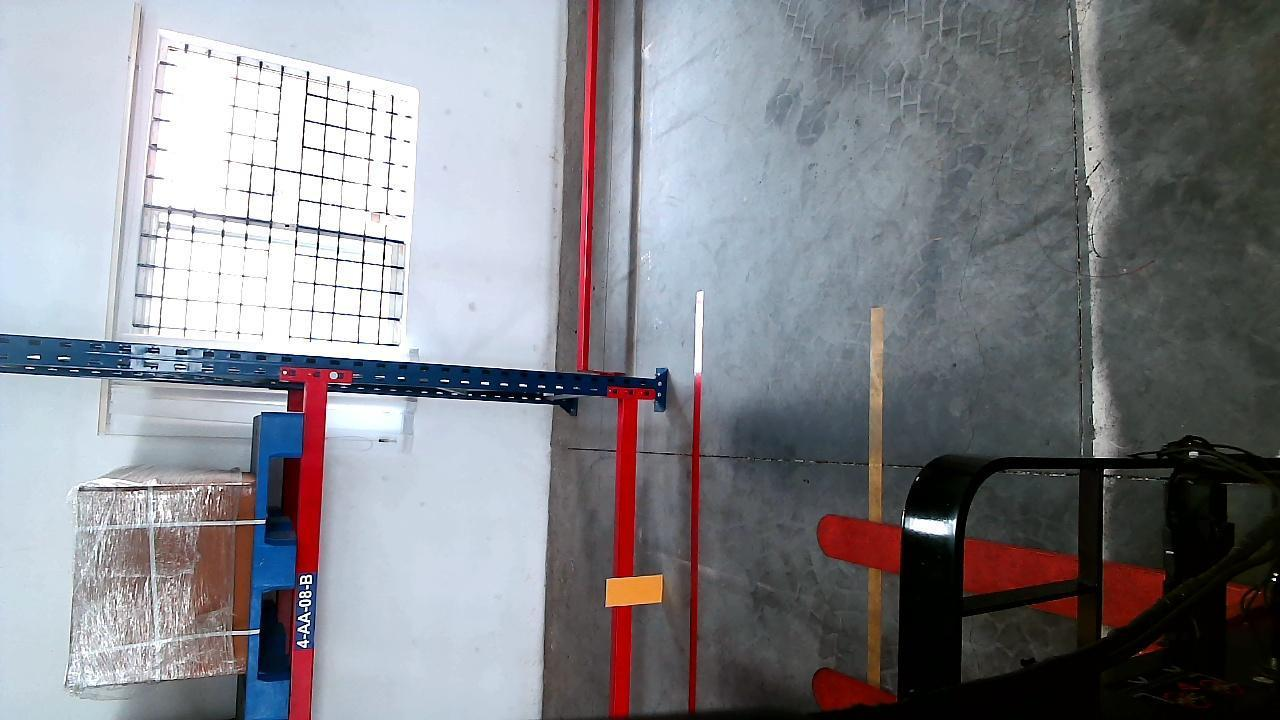h_rack: (289, 383, 327, 720), (614, 388, 642, 708)
orange_strip: (608, 574, 662, 605)
red_line: (683, 301, 706, 707)
small_pallet: (243, 412, 299, 720)
yellow_line: (865, 304, 883, 690)
